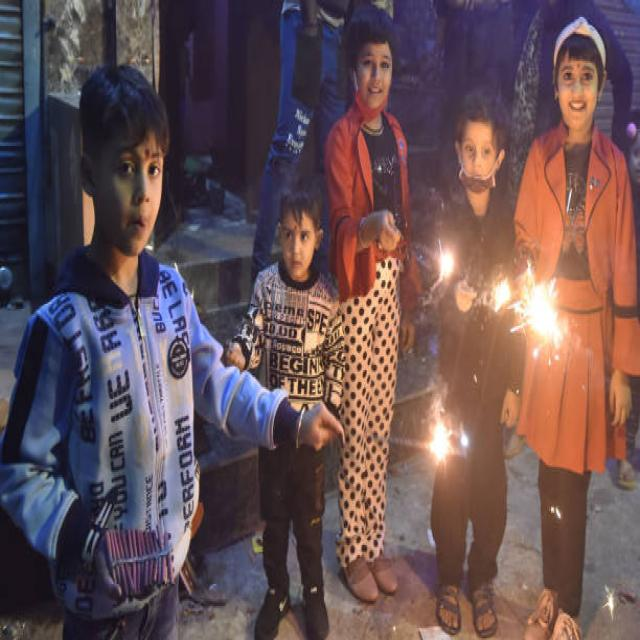fire: (506, 259, 570, 368), (419, 389, 467, 476), (430, 236, 457, 297)
